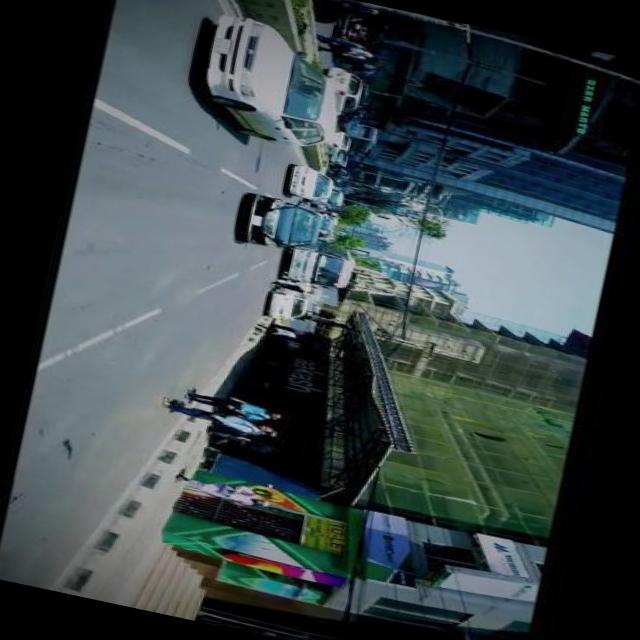bus: (290, 236, 358, 292), (343, 118, 380, 154)
car: (195, 8, 358, 153), (243, 190, 325, 256), (322, 64, 366, 117), (290, 164, 340, 204), (265, 284, 310, 324), (330, 127, 356, 153), (332, 150, 354, 168)
